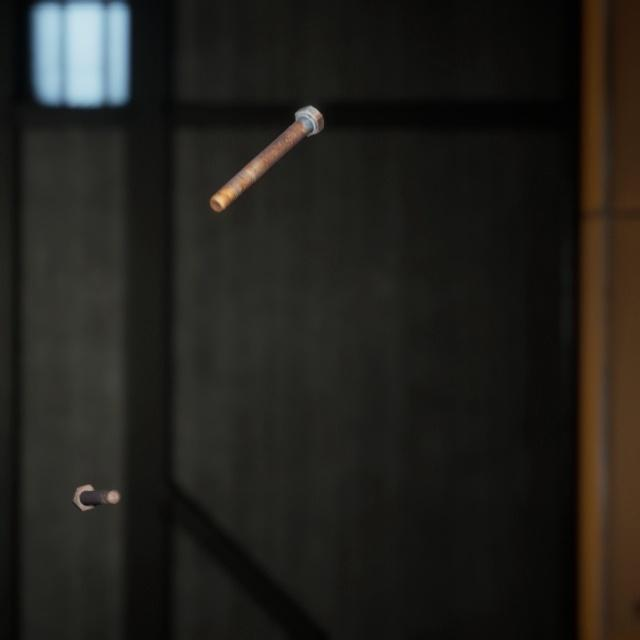bolt: (205, 87, 328, 202), (67, 459, 125, 495)
